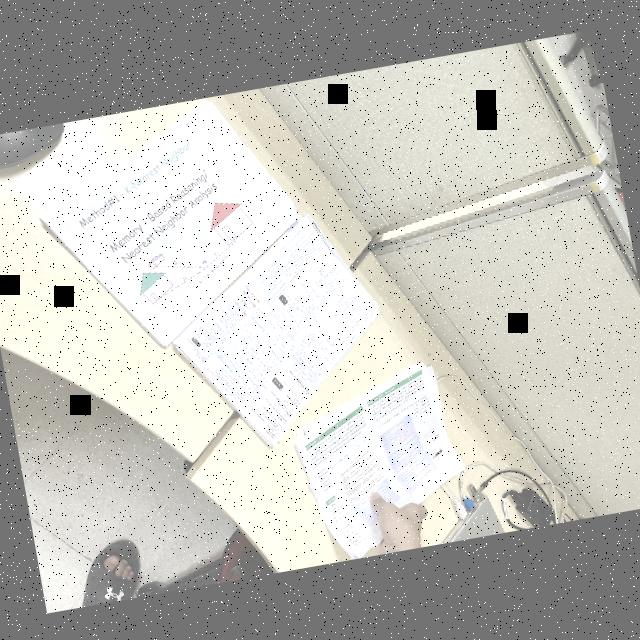reuseable_paper: (28, 73, 400, 480), (282, 348, 478, 562)
